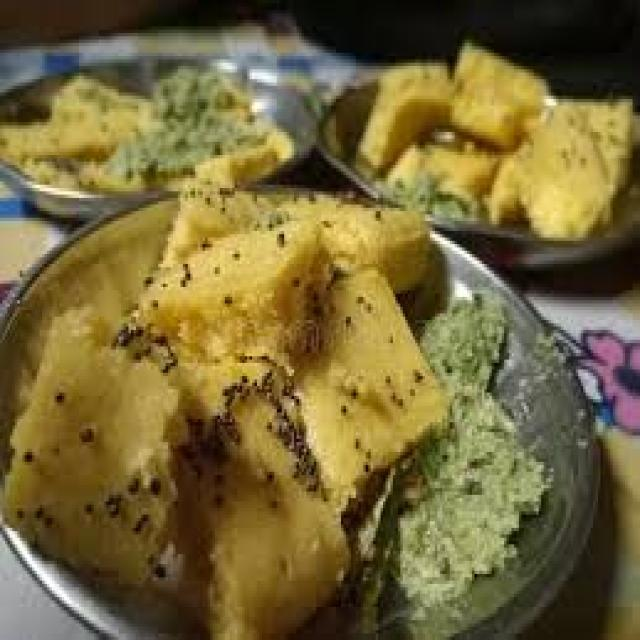DHOKLA: (3, 320, 185, 590), (179, 381, 351, 633), (292, 268, 452, 496), (145, 222, 331, 353), (317, 198, 434, 285)
